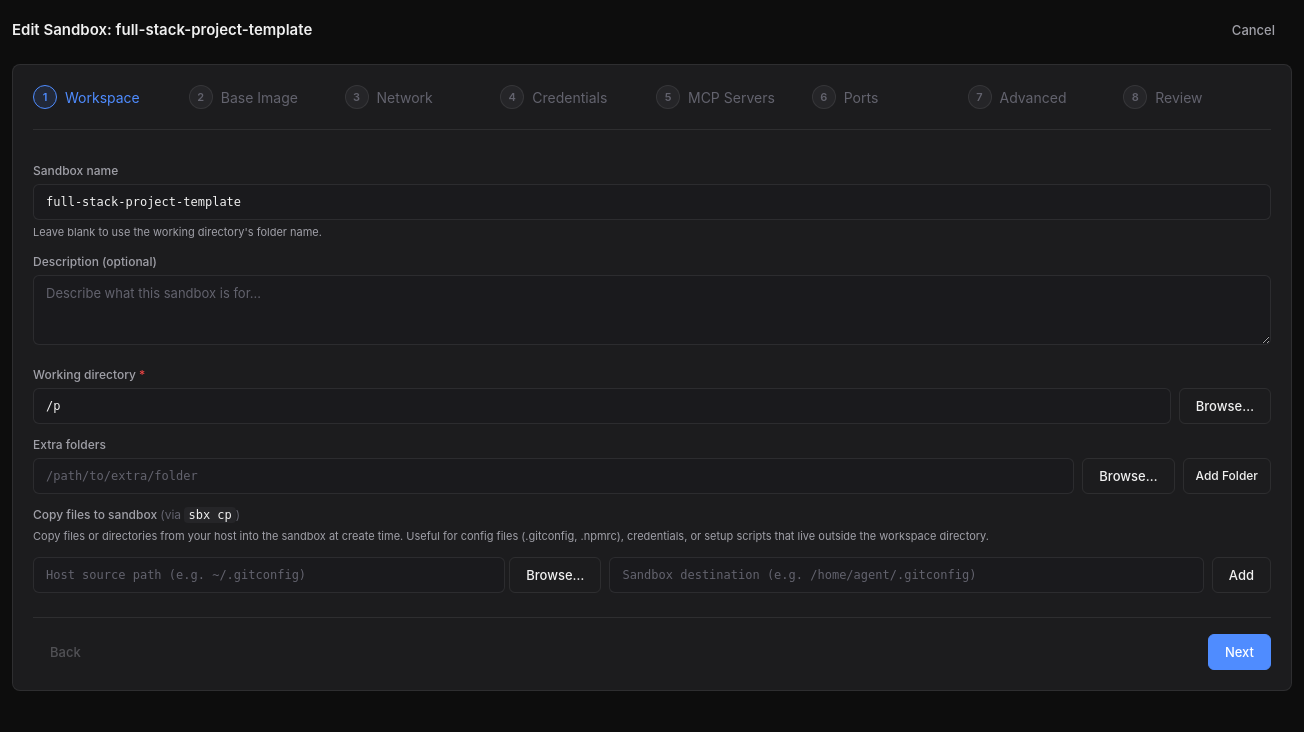
Scenario: CreateDefinition wizard › auto-saves the current draft when leaving a step in edit mode
Step 1. Type "edited desc" into the text box labelled "Description (optional)" → (652, 310), box [33,275,1271,345]
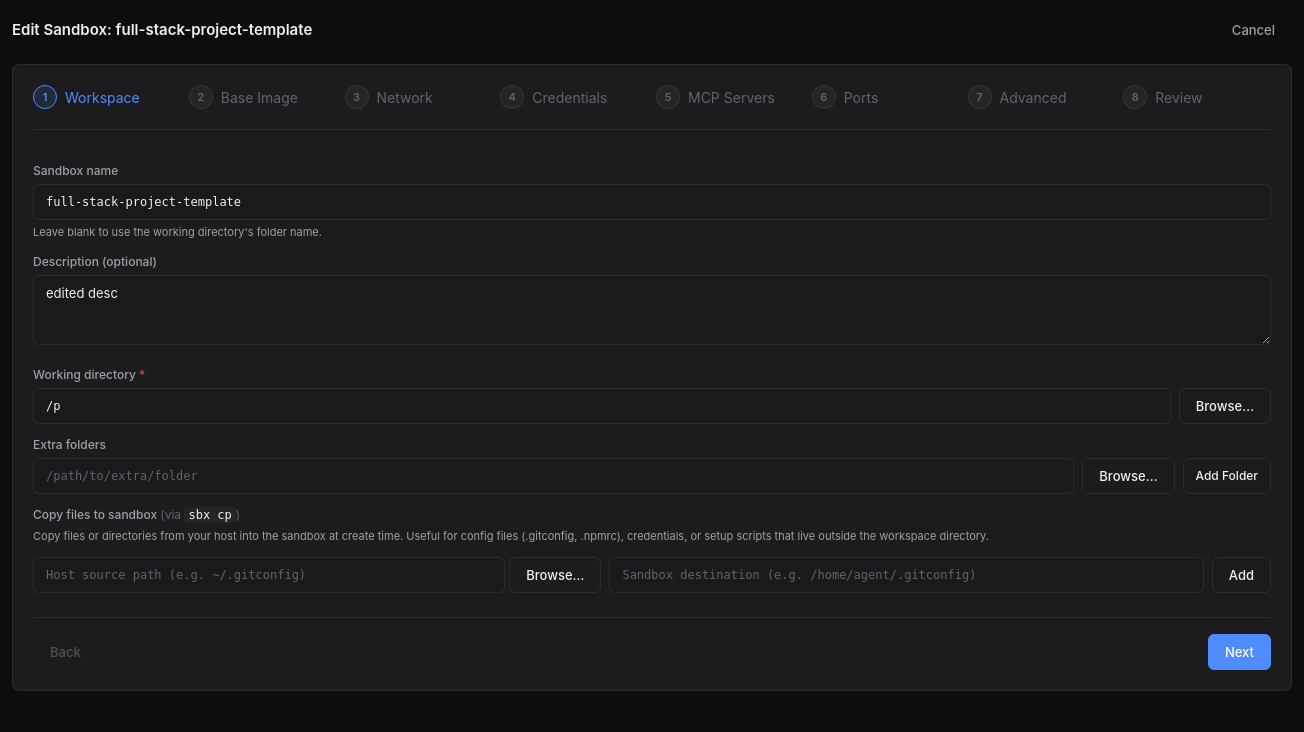
Step 2. Click the button "Next" → (1239, 652), box [1208,634,1271,670]
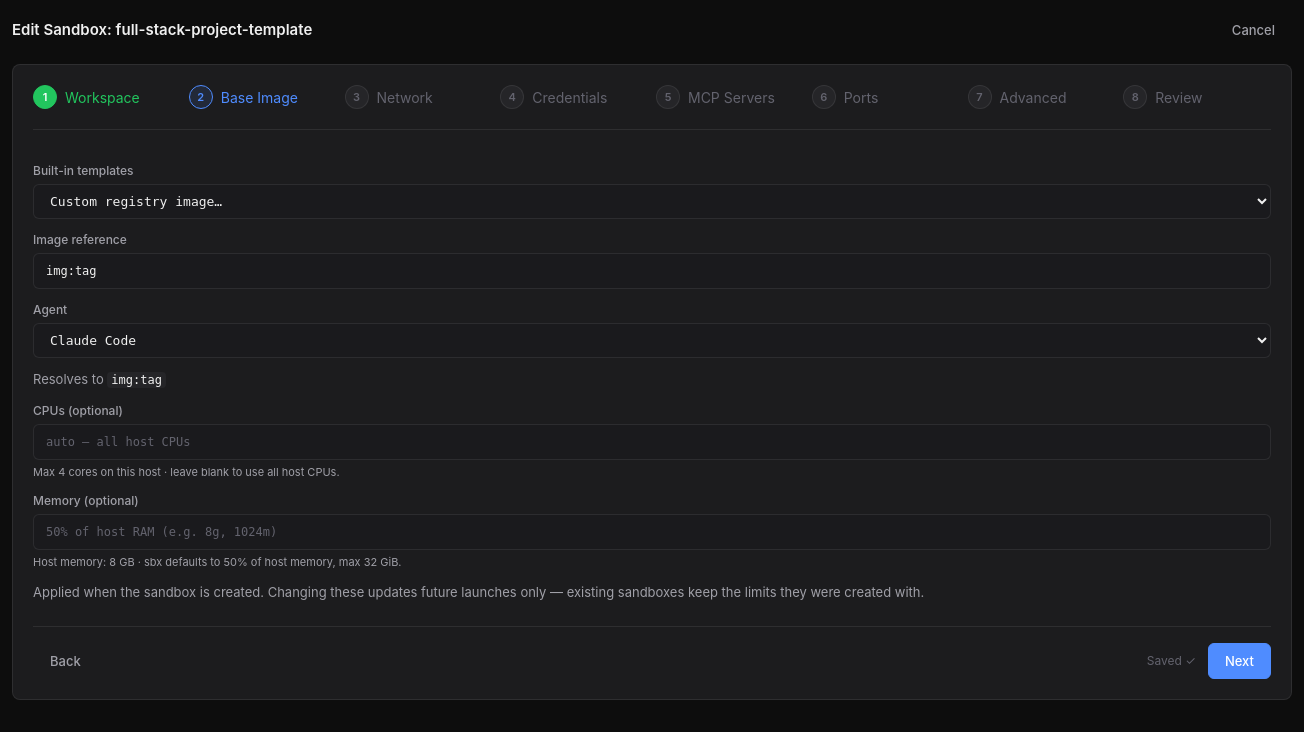
expect the text "Saved ✓" is shown: met, box [1147,653,1196,668]
